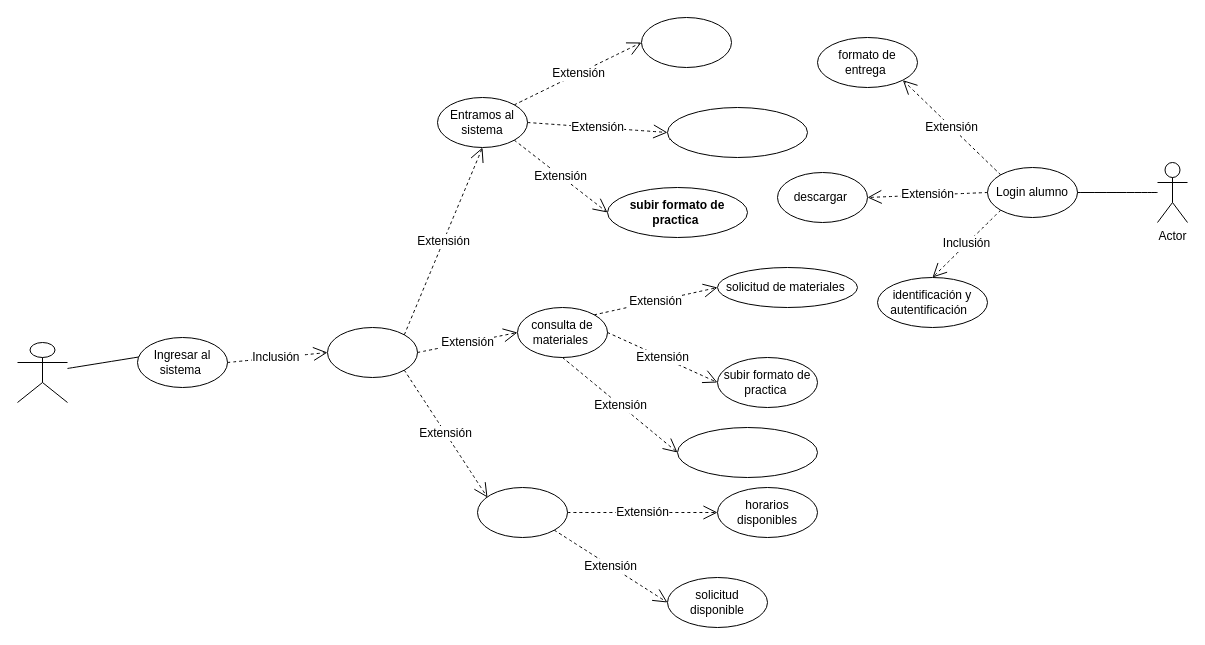
This 1205x645 diagram has some shape labels left out. Each missing label, with the centre of its shape:
"bitácora de practica" goes at point (737, 132).
"consulta de laboratorio" goes at point (522, 512).
"Docente" goes at point (42, 372).
"entrega de materiales" goes at point (747, 452).
"identificacion y autentificación" goes at point (372, 352).
"recetas" goes at point (686, 42).
